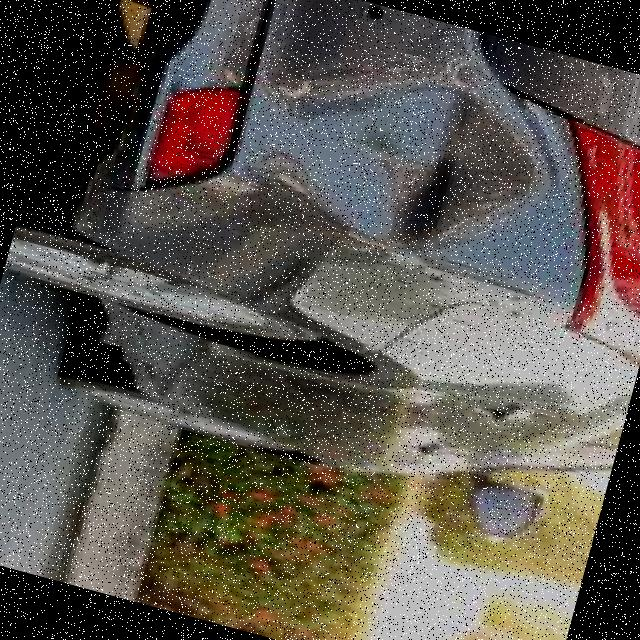Dent: (250, 28, 498, 280), (442, 114, 560, 276)
